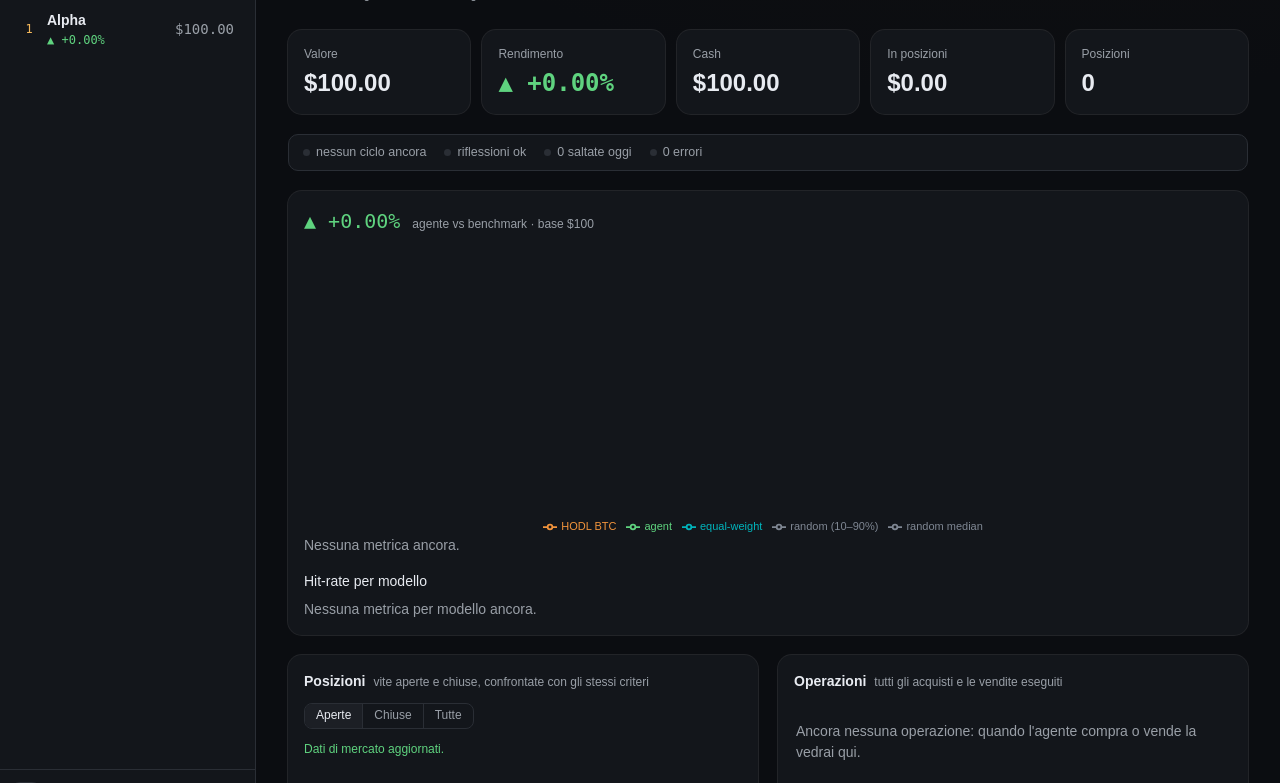
Test case: App lifecycle navigation › carica la pagina successiva concatenando senza duplicare lifecycle
Expected: the button "Aperte" is shown, [305,704,362,728]
Click the button "Chiuse". click: (393, 716)
box: [362,704,423,728]
(page scrolled)
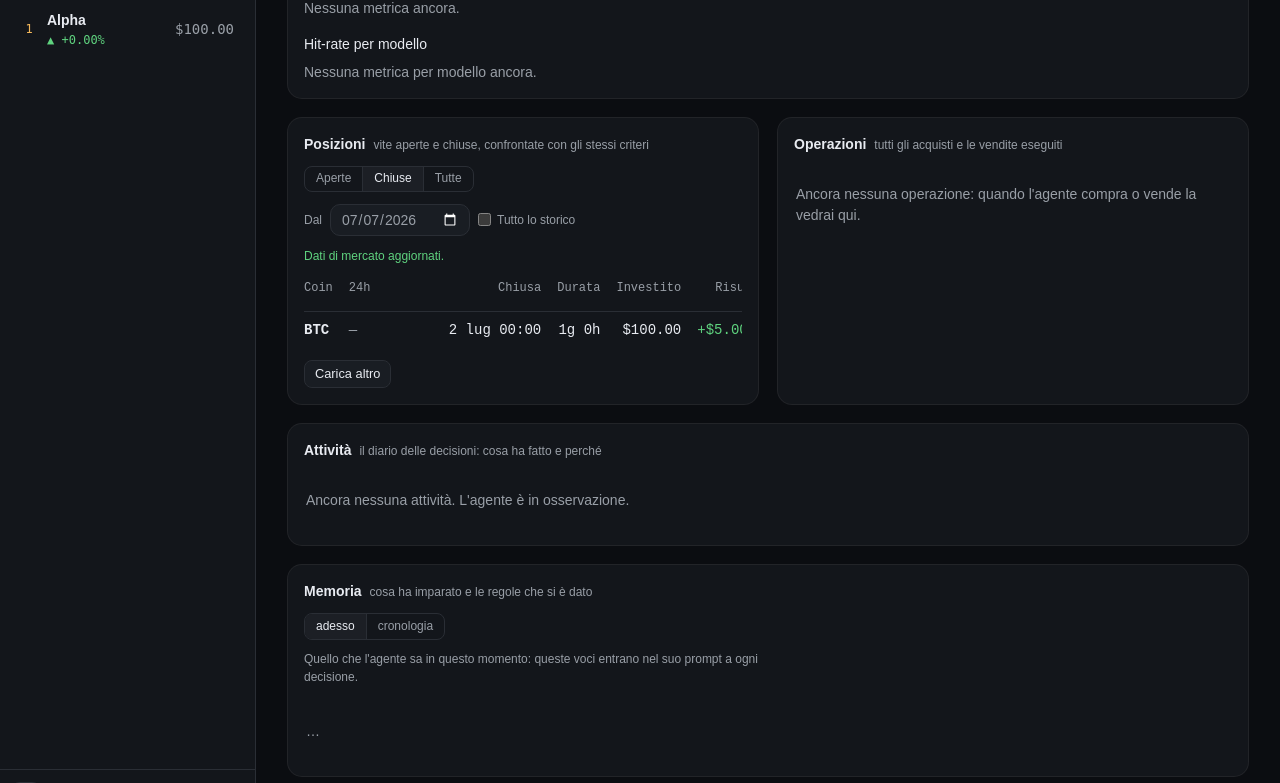
Now the text "BTC" is shown, box [304,312,341,348]
Click the button "Carica altro". click: (348, 374)
box: [304,360,391,388]
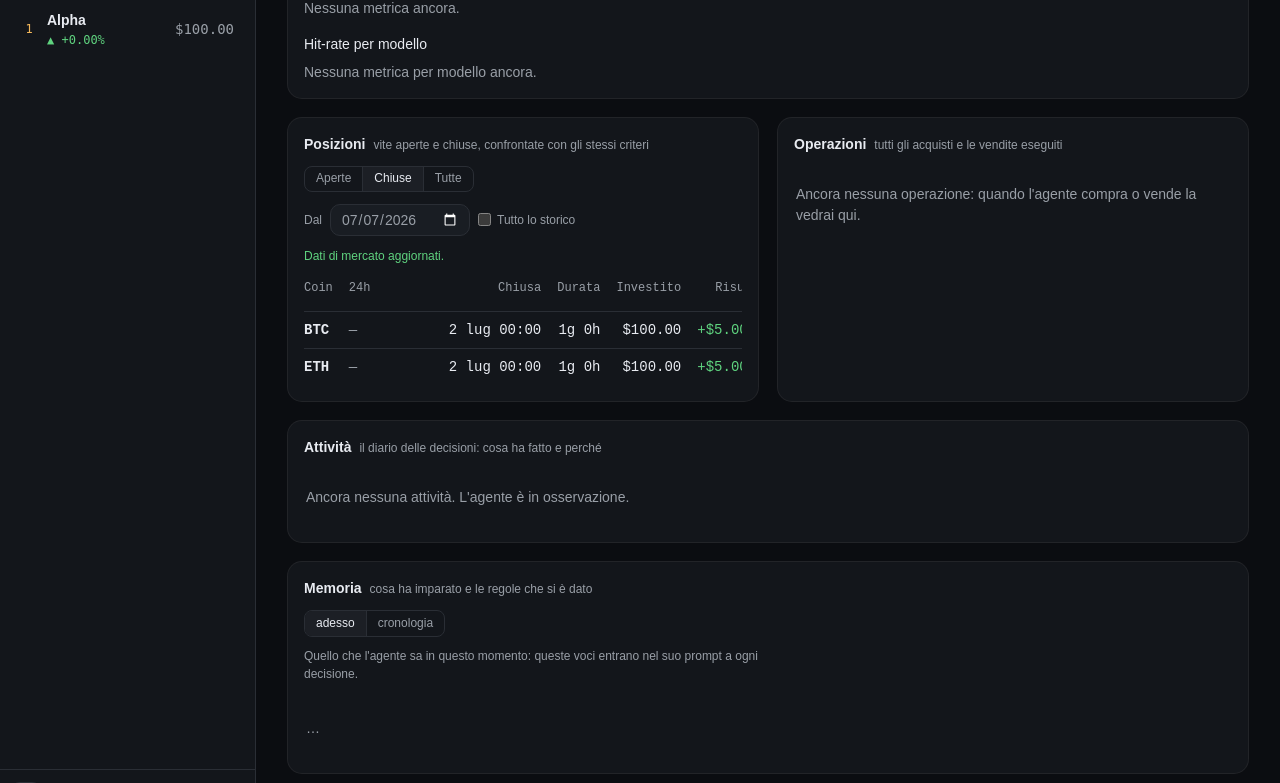
Now the text "ETH" is shown, box [304,349,341,385]
Now the text "BTC" is shown once, box [304,312,341,349]
Now the button "Carica altro" is gone
